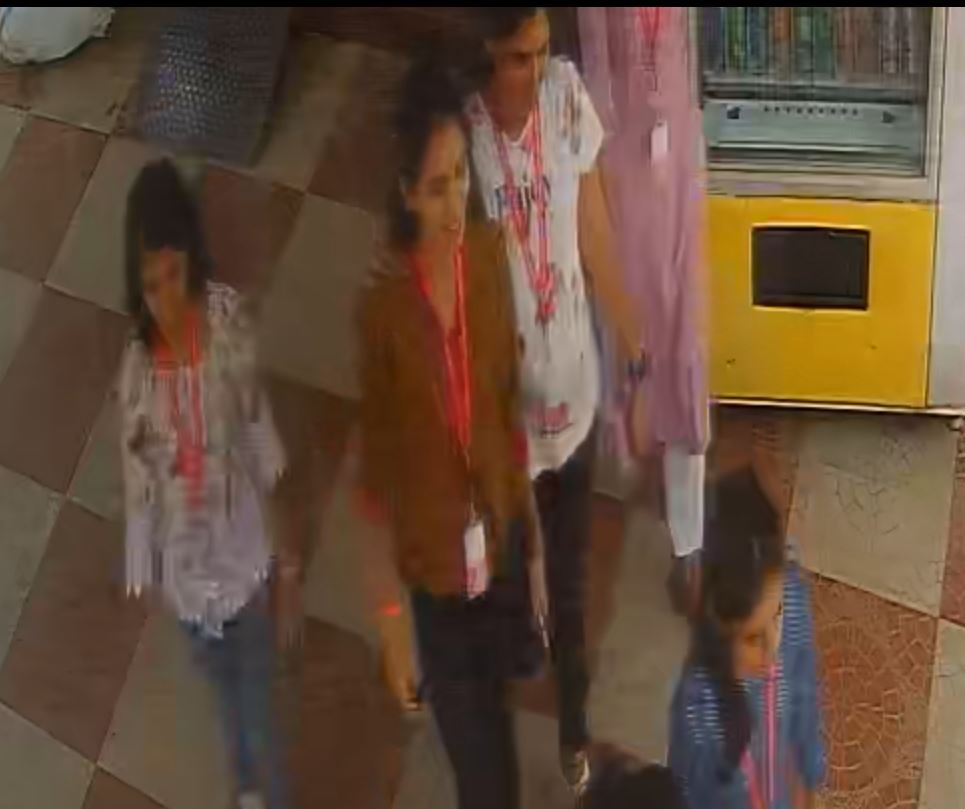intruder: (113, 158, 317, 809), (364, 104, 536, 809), (467, 7, 608, 724), (666, 470, 828, 807)
